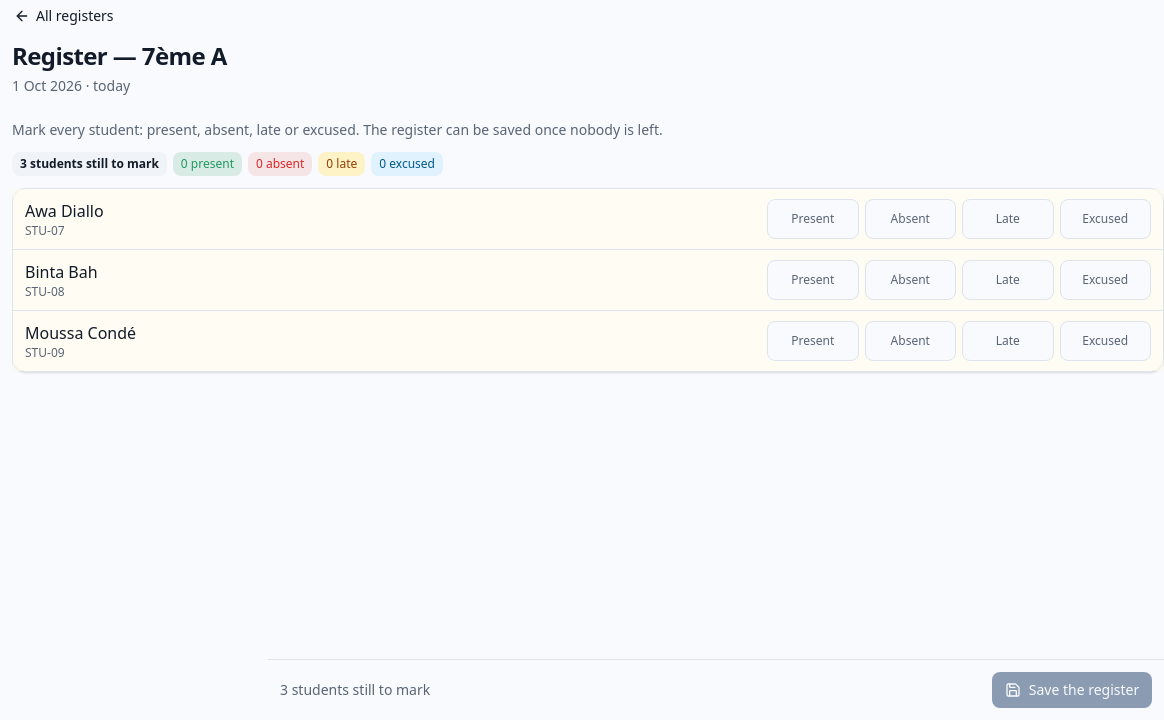
Test case: RegisterPage › can mark the remaining students present in one tap, as the teacher's own choice
Check: the button "remaining students present" is not shown
Click the radio button labelled "Absent" in the row of "Binta Bah".
click(910, 280)  # box left=864, top=260, right=956, bottom=300
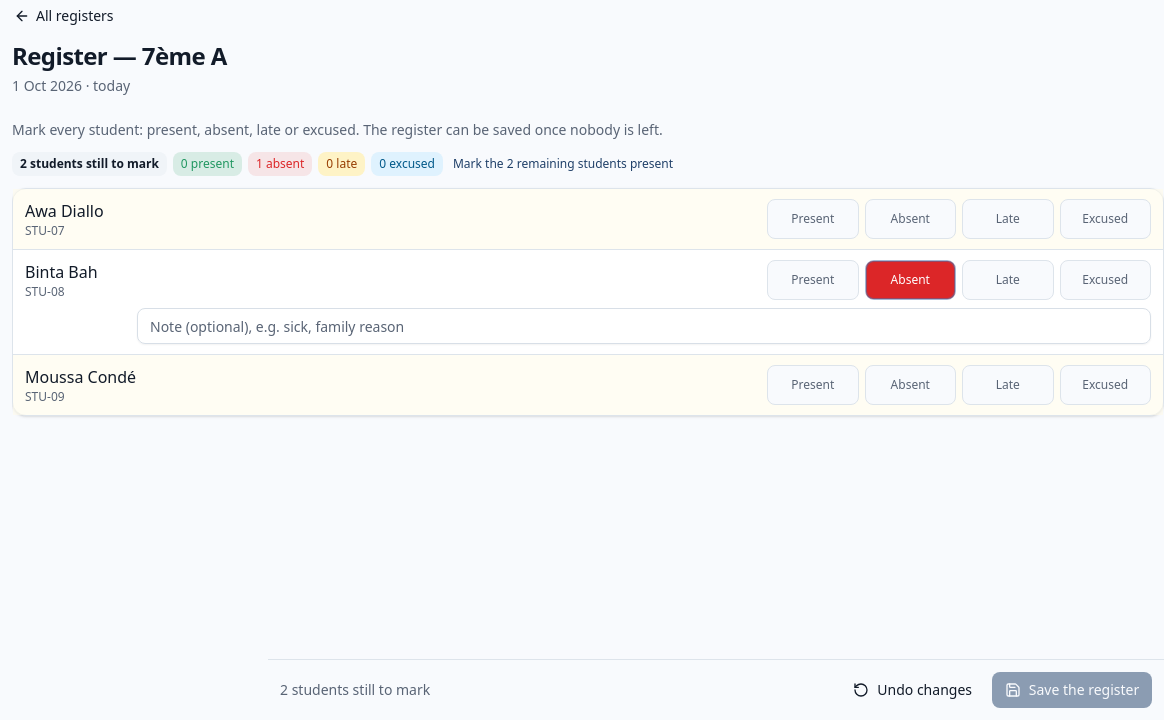
Click the button "Mark the 2 remaining students present".
click(563, 164)  # box left=449, top=156, right=677, bottom=172
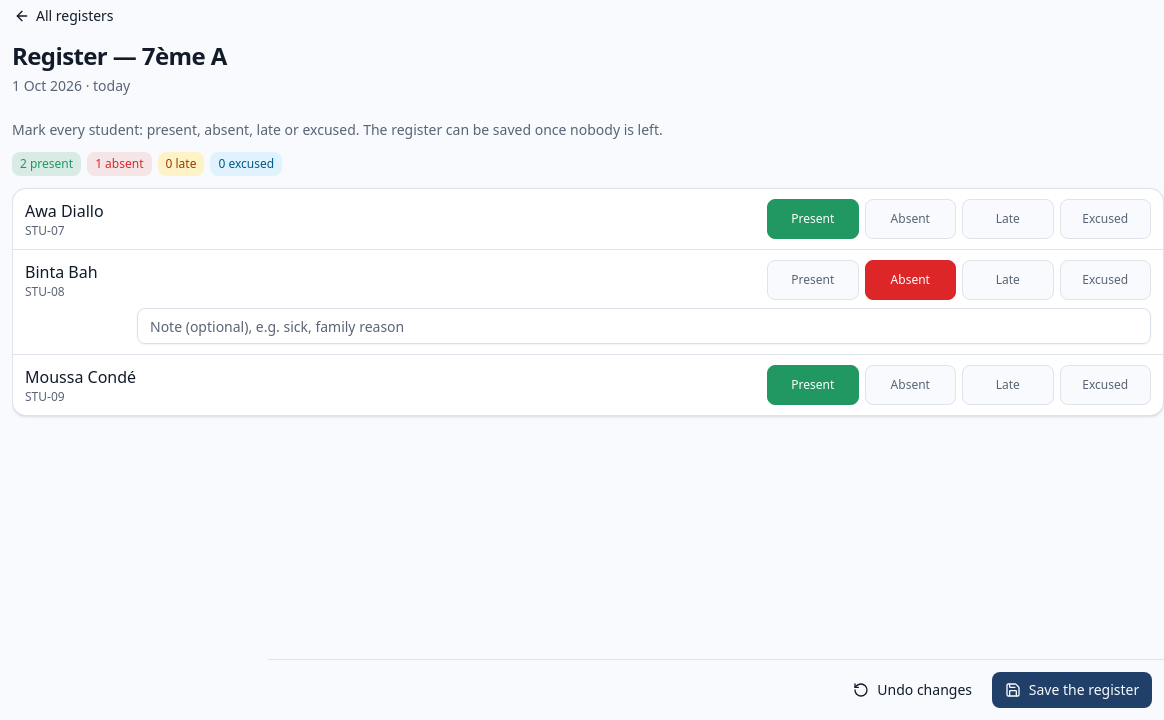
Check: the message named "Summary" shows "2 present", box left=20, top=155, right=73, bottom=172
Check: the button "Save the register" is enabled, box left=992, top=672, right=1152, bottom=708
